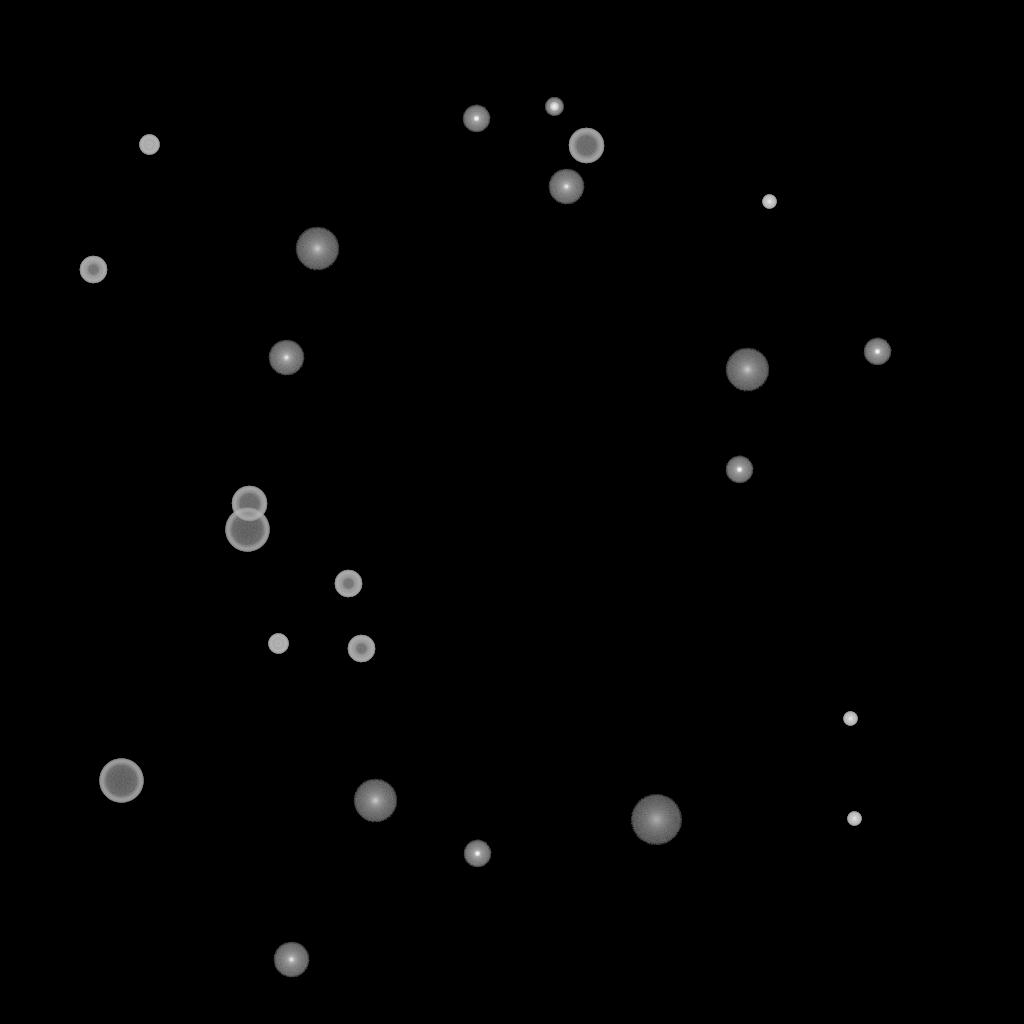depth:-10: (463, 840, 491, 868), (462, 105, 490, 133), (863, 338, 891, 366), (725, 456, 753, 484)
depth:-20: (545, 98, 563, 116)
depth:-30: (847, 812, 861, 826), (843, 712, 857, 726), (762, 195, 776, 209)
depth:-40: (268, 634, 288, 654), (139, 135, 159, 155)
depth:-50: (347, 635, 375, 663), (334, 570, 362, 598), (79, 256, 107, 284)
depth:-60: (568, 128, 604, 164), (231, 486, 267, 522)
depth:-70: (225, 508, 269, 552), (99, 759, 143, 803)
depth:0: (548, 169, 584, 205), (268, 340, 304, 376), (273, 942, 309, 978)
depth:10: (353, 779, 397, 823), (725, 348, 769, 392), (295, 227, 339, 271)
depth:20: (630, 795, 682, 845)
